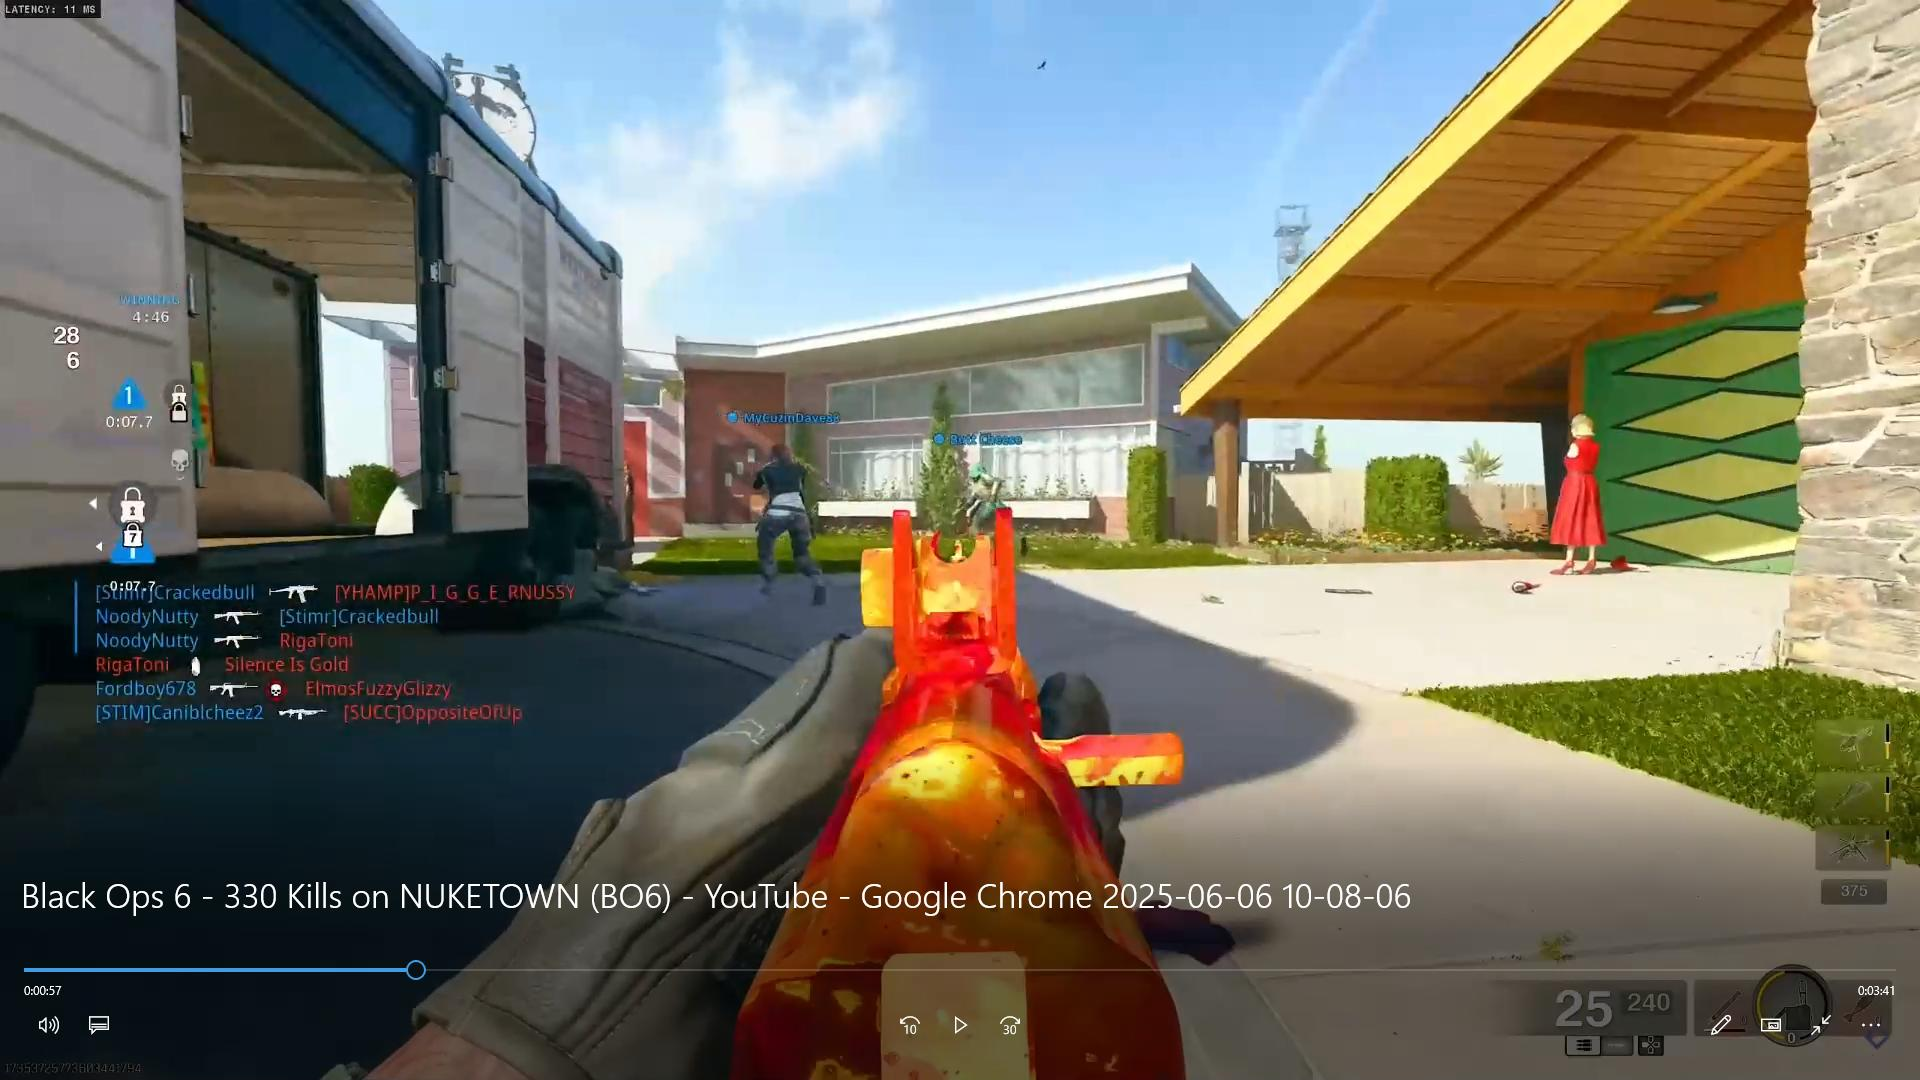Enemy: (750, 440, 825, 595), (959, 464, 1007, 516)
